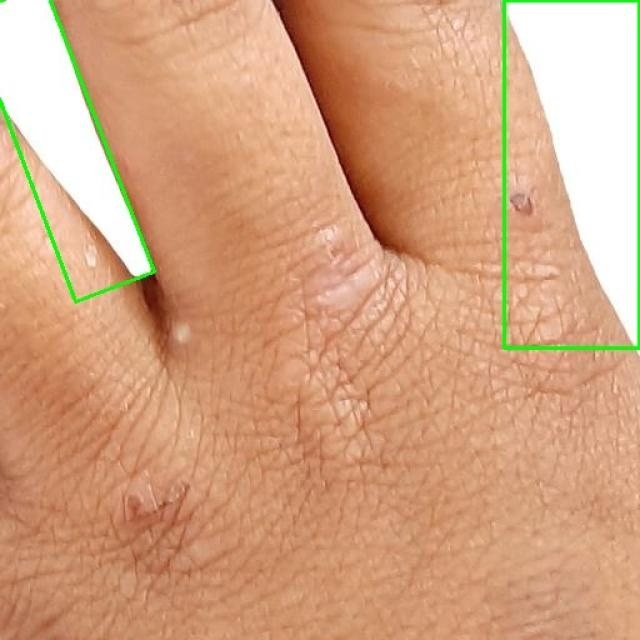Scabies: (0, 0, 157, 302), (504, 0, 639, 348)
